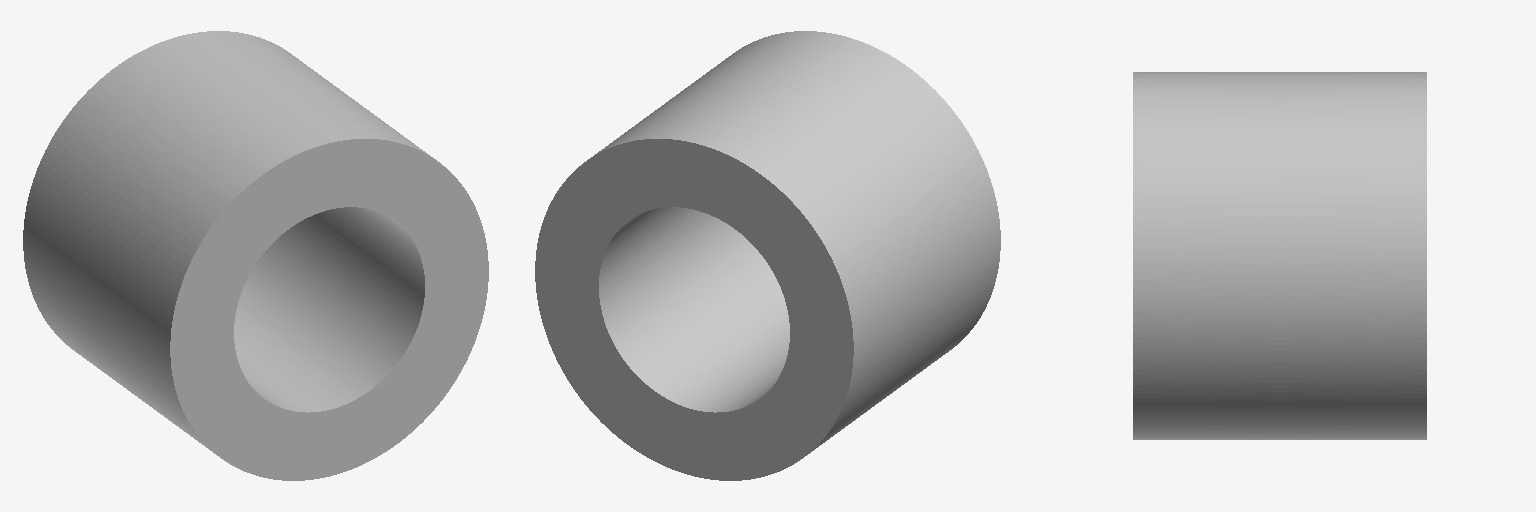
The model's file is 8mmStandoff.obj.
The picture shows the model from 3 angles: view 1: azimuth 30°, elevation 25°; view 2: azimuth 150°, elevation 25°; view 3: azimuth 270°, elevation 25°; orthographic projection.
Visible parts, largest first — view 1: Body1; view 2: Body1; view 3: Body1.
Part boxes in pixels (x1,y1,x2,y2): Body1: (23,31,488,480); Body1: (535,31,1000,480); Body1: (1133,72,1426,439).
Bounding box in the file's own units: 10 × 10 × 8.